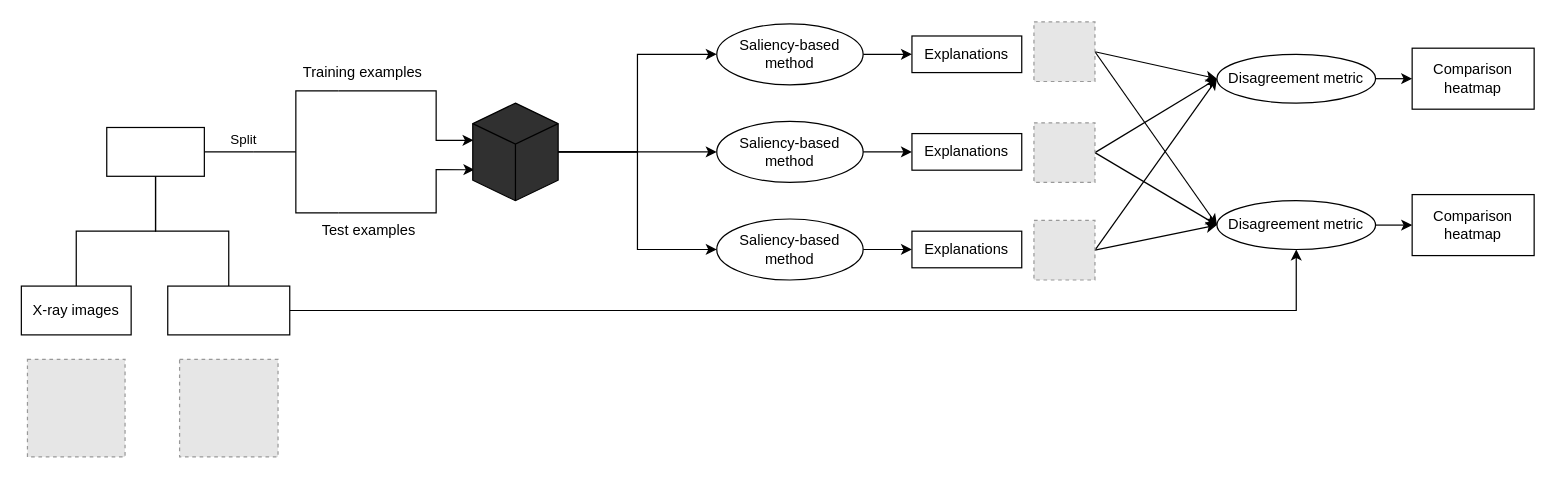
The diagram is 1556 pixels wide and 478 high, and some of its shapes have lost their labels. Grey dashed boxes stand in for pictures. Here are the shapes that lost their labels. From the top down, the box of each, then its label:
(106, 126, 204, 176): Dataset
(472, 102, 558, 201): Black box
(167, 285, 290, 335): Pneumothorax masks
